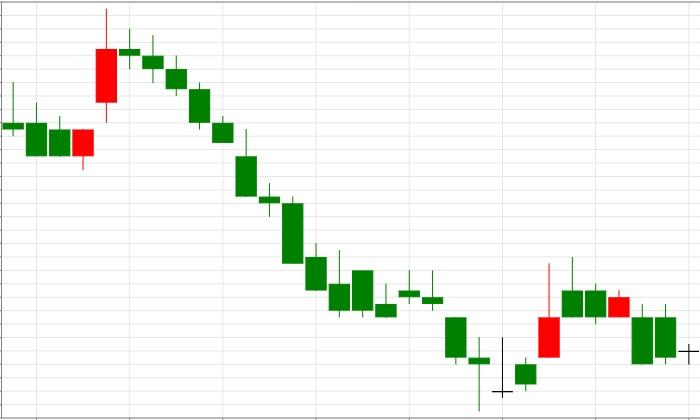three_black_crows_fall: (25, 8, 188, 171)
